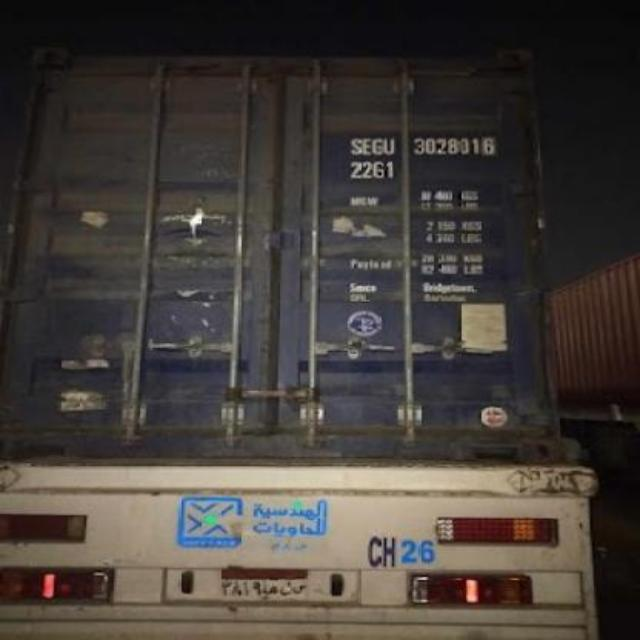0: (458, 132, 470, 158), (424, 134, 434, 156)
1: (470, 132, 480, 156)
2: (434, 131, 446, 155)
3: (412, 135, 424, 155)
6: (480, 130, 496, 160)
8: (446, 134, 459, 156)
E: (358, 129, 372, 159)
G: (371, 130, 384, 158)
S: (346, 130, 362, 158)
U: (382, 131, 396, 155)
